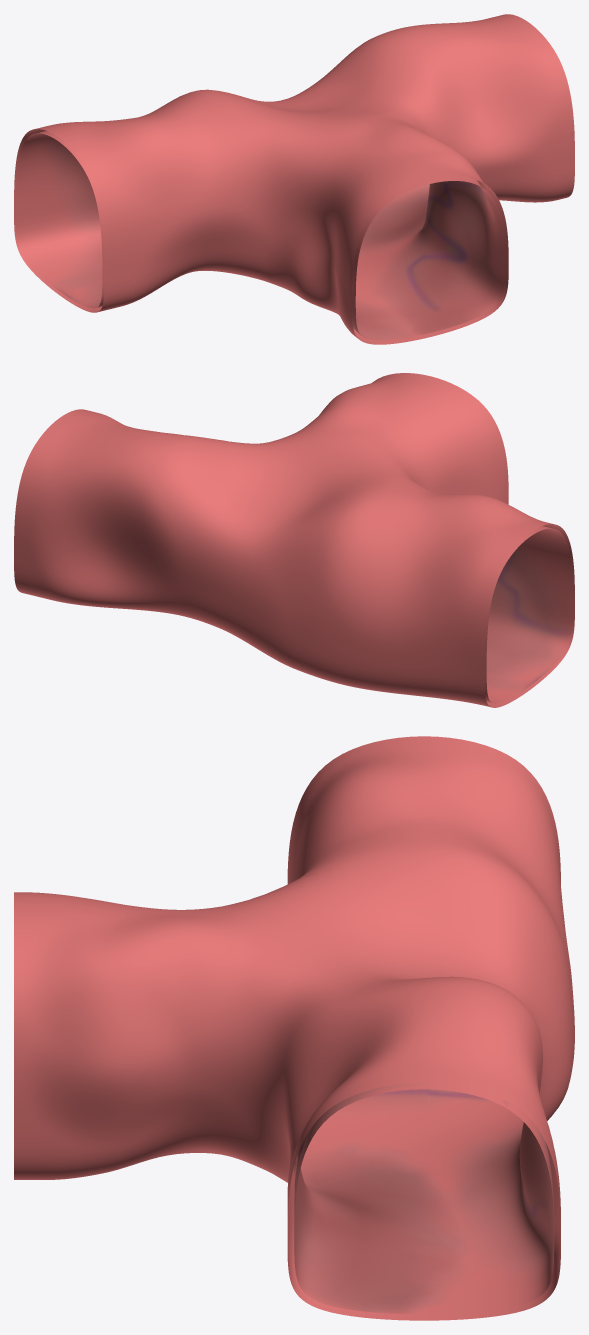
The model's file is cave_t_cross.fbx.
3 renders of one model, top to bottom at view 1: azimuth 30°, elevation 25°; view 2: azimuth 150°, elevation 25°; view 3: azimuth 270°, elevation 25°, orthographic. The views are drawn at different scales.
Visible parts, largest first — view 1: cave_t_cross.001; view 2: cave_t_cross.001; view 3: cave_t_cross.001.
Boxes of the visible parts, bbox=[...] form: cave_t_cross.001: bbox=[14, 14, 574, 344]; cave_t_cross.001: bbox=[14, 373, 574, 707]; cave_t_cross.001: bbox=[14, 736, 574, 1320].
Size of the model in its own units: 600 by 209 by 410.
Materials: 1 (1 with a texture image).
